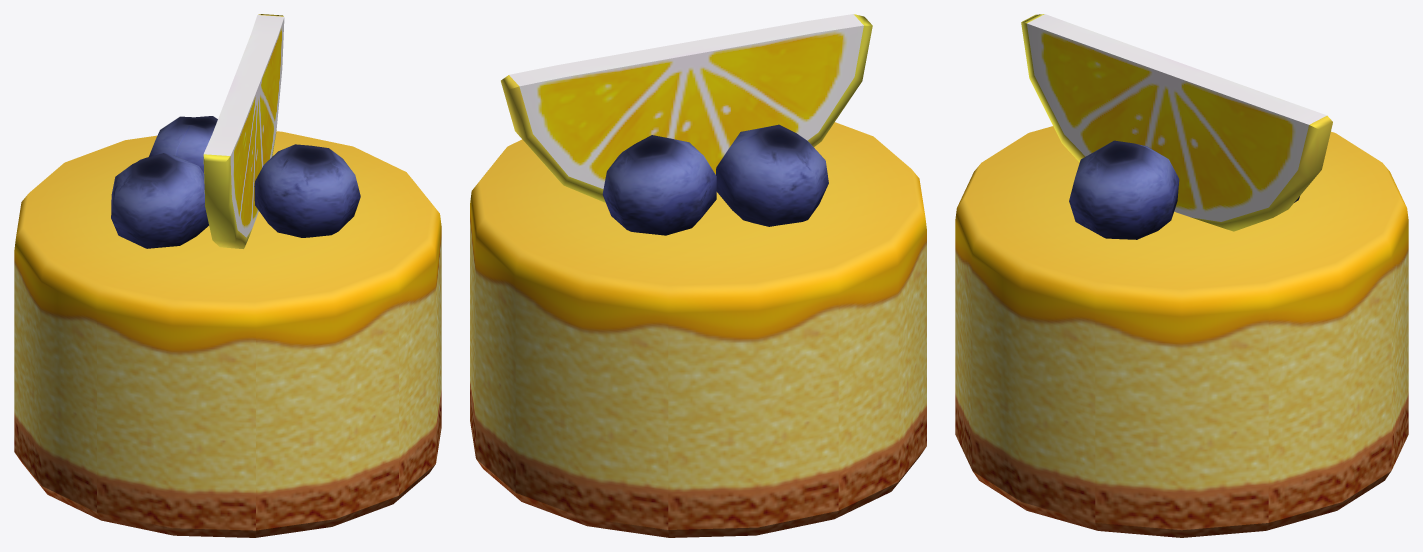
The model's file is 008-Cheesecake_06.FBX.
3 renders of one model, left to right at view 1: azimuth 30°, elevation 25°; view 2: azimuth 150°, elevation 25°; view 3: azimuth 270°, elevation 25°, orthographic. The views are drawn at different scales.
Visible parts, largest first — view 1: 008-Cheesecake_06; view 2: 008-Cheesecake_06; view 3: 008-Cheesecake_06.
Boxes of the visible parts, bbox=[...] form: 008-Cheesecake_06: bbox=[14, 14, 441, 537]; 008-Cheesecake_06: bbox=[470, 14, 926, 537]; 008-Cheesecake_06: bbox=[955, 14, 1408, 537].
Bounding box in the file's own units: 12.38 × 11.6 × 12.38.
